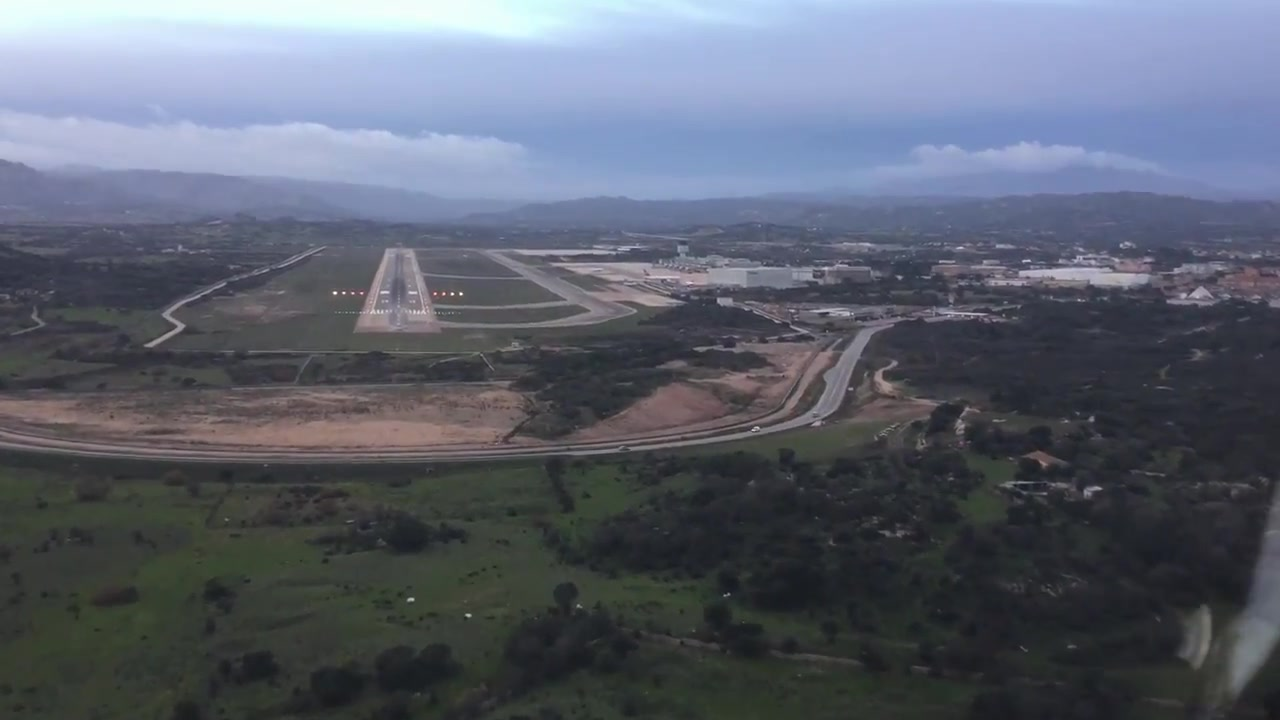entrance: (374, 308, 423, 315)
runway: (355, 247, 441, 333)
